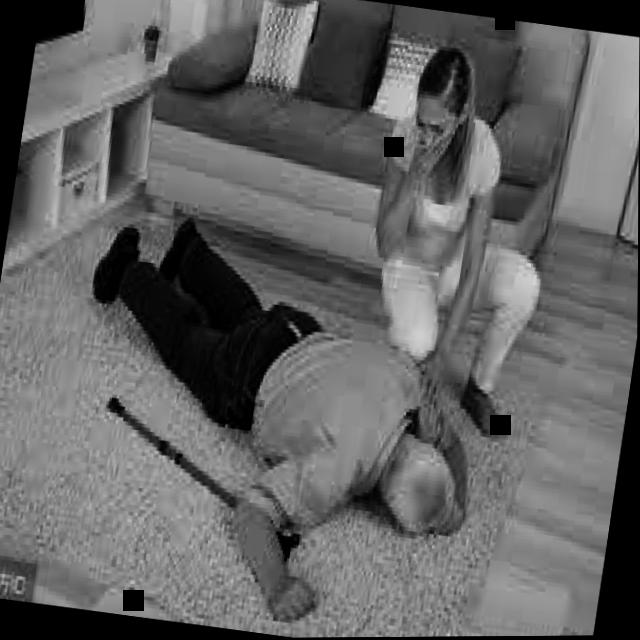Fall-Detected: (39, 167, 504, 640)
